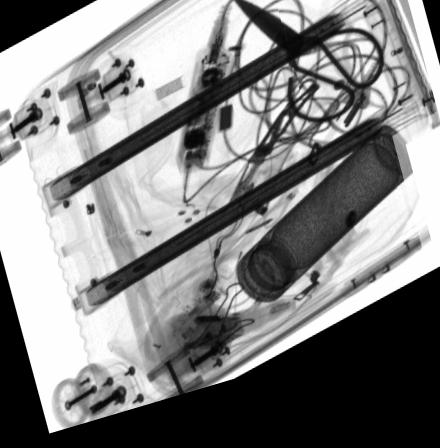Knife: (226, 98, 320, 230)
Scissors: (229, 6, 385, 142)
